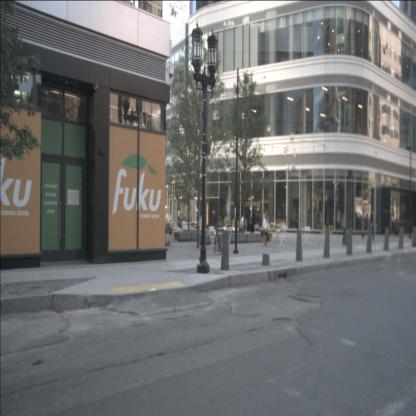human-pedestrian-adult: (261, 214, 271, 246), (216, 217, 224, 251), (246, 216, 255, 240), (176, 216, 184, 239), (370, 209, 375, 241), (240, 213, 246, 237), (391, 213, 397, 235)
